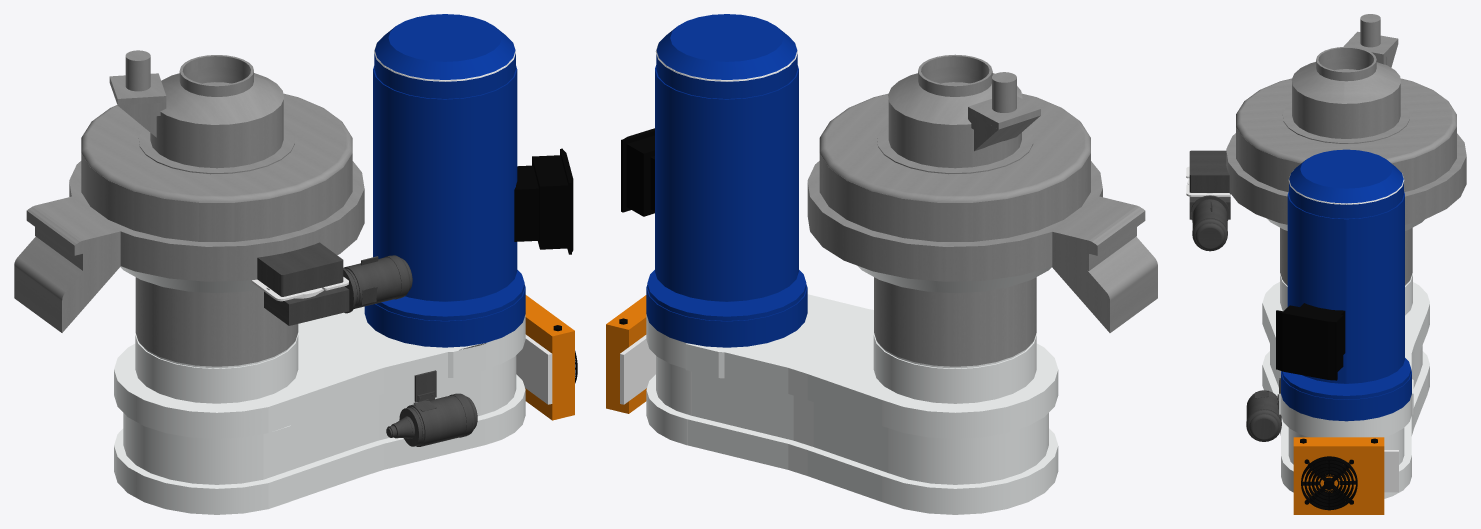
Rendered from bio-pelletizator.glb.
3 views of the same model, side by side, from view 1: azimuth 30°, elevation 25°; view 2: azimuth 150°, elevation 25°; view 3: azimuth 270°, elevation 25° (orthographic). The views are drawn at different scales.
Visible parts, largest first — view 1: 311256, 278475, 275000, 271157, 301554, 779770, 281407, 272449; view 2: 311256, 278475, 275000, 271157, 779770, 281407, 272449; view 3: 311256, 278475, 275000, 779770, 301554, 281407, 271157, 272449.
Boxes of the visible parts, box(x1,y1,x2,y2) form: 311256: box(14, 50, 364, 366); 278475: box(364, 14, 525, 347); 275000: box(114, 306, 525, 514); 271157: box(120, 266, 516, 484); 301554: box(257, 242, 477, 446); 779770: box(514, 148, 577, 383); 281407: box(525, 295, 574, 420); 272449: box(147, 43, 552, 404); 311256: box(807, 54, 1157, 366); 278475: box(646, 14, 807, 347); 275000: box(646, 294, 1058, 514); 271157: box(656, 265, 1051, 484); 779770: box(619, 128, 654, 324); 281407: box(606, 295, 646, 413); 272449: box(620, 40, 1024, 404); 311256: box(1226, 14, 1466, 284); 278475: box(1281, 149, 1411, 421); 275000: box(1262, 282, 1429, 498); 779770: box(1276, 303, 1377, 510); 301554: box(1189, 150, 1281, 441); 281407: box(1293, 437, 1384, 514); 271157: box(1267, 218, 1424, 464); 272449: box(1186, 166, 1404, 492).
Size of the model in its own units: 2.5 by 1.94 by 1.44.
9 materials, 5 textured.
